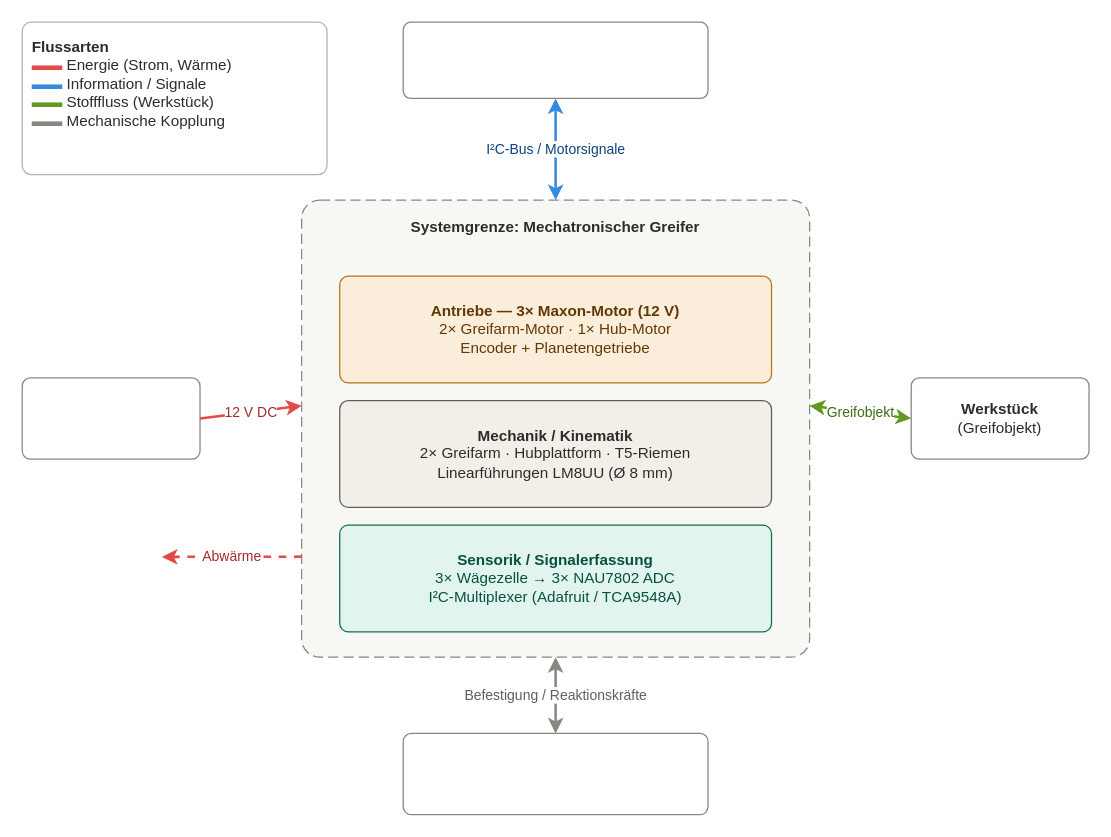
Some shapes in this 1111 by 837 pixel diagram are drawn without their labels. Here are the shapes that lost their labels. From the top down, the centre of each, then its label:
the point at 555,59: Übergeordnete Steuerung Mikrocontroller / SPS
the point at 110,418: 12 V DC Versorgung
the point at 555,773: Montagestruktur Roboterarm / Gestell
